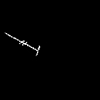treble_crochet: (6, 33, 39, 52)
